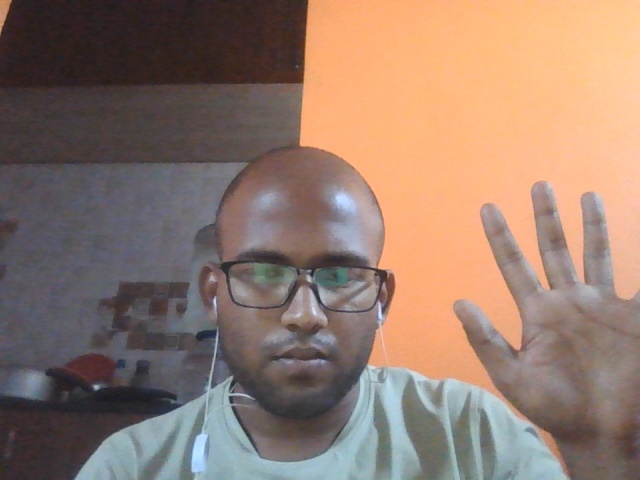hello: (445, 169, 640, 478)
